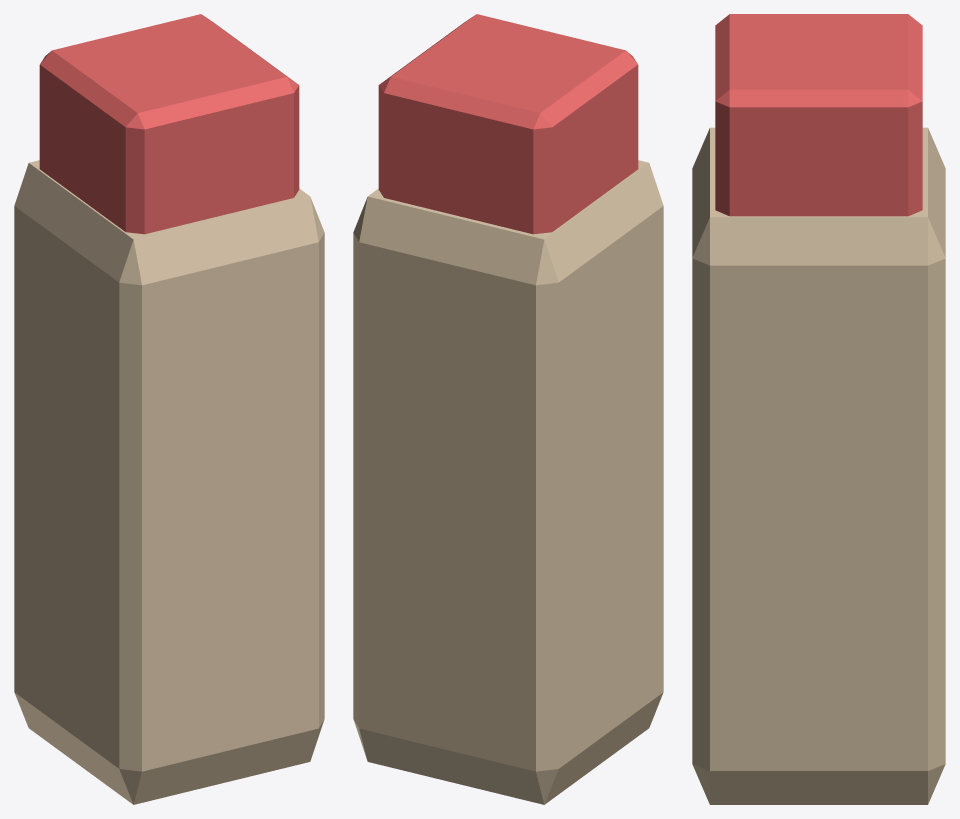
Rendered from b16_gable_top_milk_carton.glb.
The picture shows the model from 3 angles, left to right: view 1: azimuth 30°, elevation 25°; view 2: azimuth 150°, elevation 25°; view 3: azimuth 270°, elevation 25°; orthographic projection. The views are drawn at different scales.
Parts seen in each view (by area): view 1: b16_gable_top_milk_carton; view 2: b16_gable_top_milk_carton; view 3: b16_gable_top_milk_carton.
Boxes of the visible parts, x1,y1,x2,y2 form: b16_gable_top_milk_carton: [14, 14, 324, 804]; b16_gable_top_milk_carton: [353, 14, 663, 804]; b16_gable_top_milk_carton: [692, 14, 945, 804].
Bounding box in the file's own units: 0.071 × 0.225 × 0.073.
